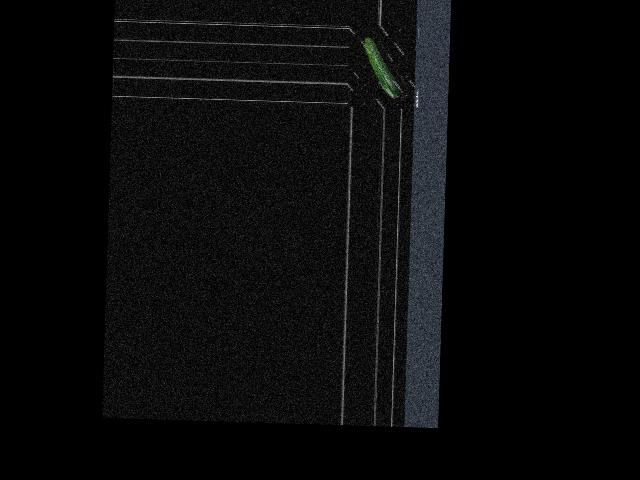cucumber: (362, 36, 402, 98)
